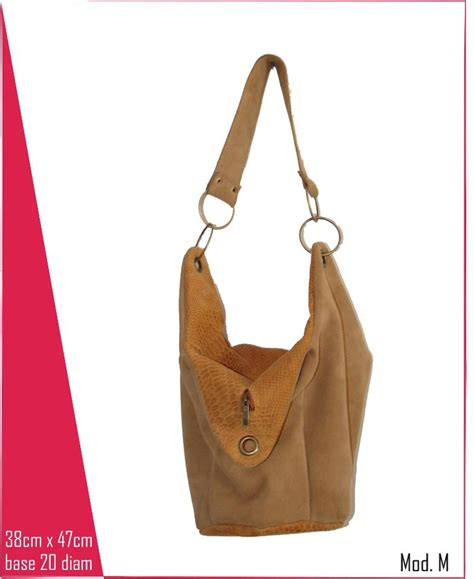gamuza: (177, 55, 374, 534)
